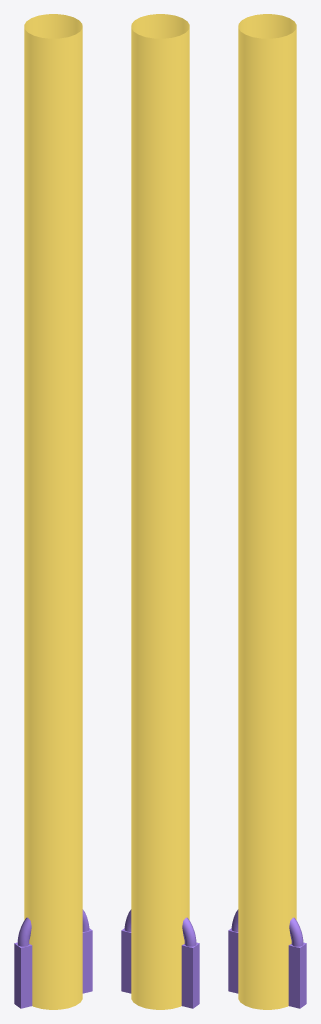
Rendered from gate.glb.
The picture shows the model from 3 angles, left to right: view 1: azimuth 30°, elevation 25°; view 2: azimuth 150°, elevation 25°; view 3: azimuth 330°, elevation 25°; orthographic projection.
Parts seen in each view (by area): view 1: beam, gate; view 2: beam, gate; view 3: beam, gate.
Part boxes in pixels (x1,y1,x2,y2): beam: [24, 14, 82, 1009]; gate: [14, 909, 92, 1008]; beam: [131, 14, 189, 1009]; gate: [121, 909, 199, 1008]; beam: [238, 14, 296, 1009]; gate: [228, 909, 306, 1008].
Size of the model in its own units: 6.2 by 80 by 4.4.
